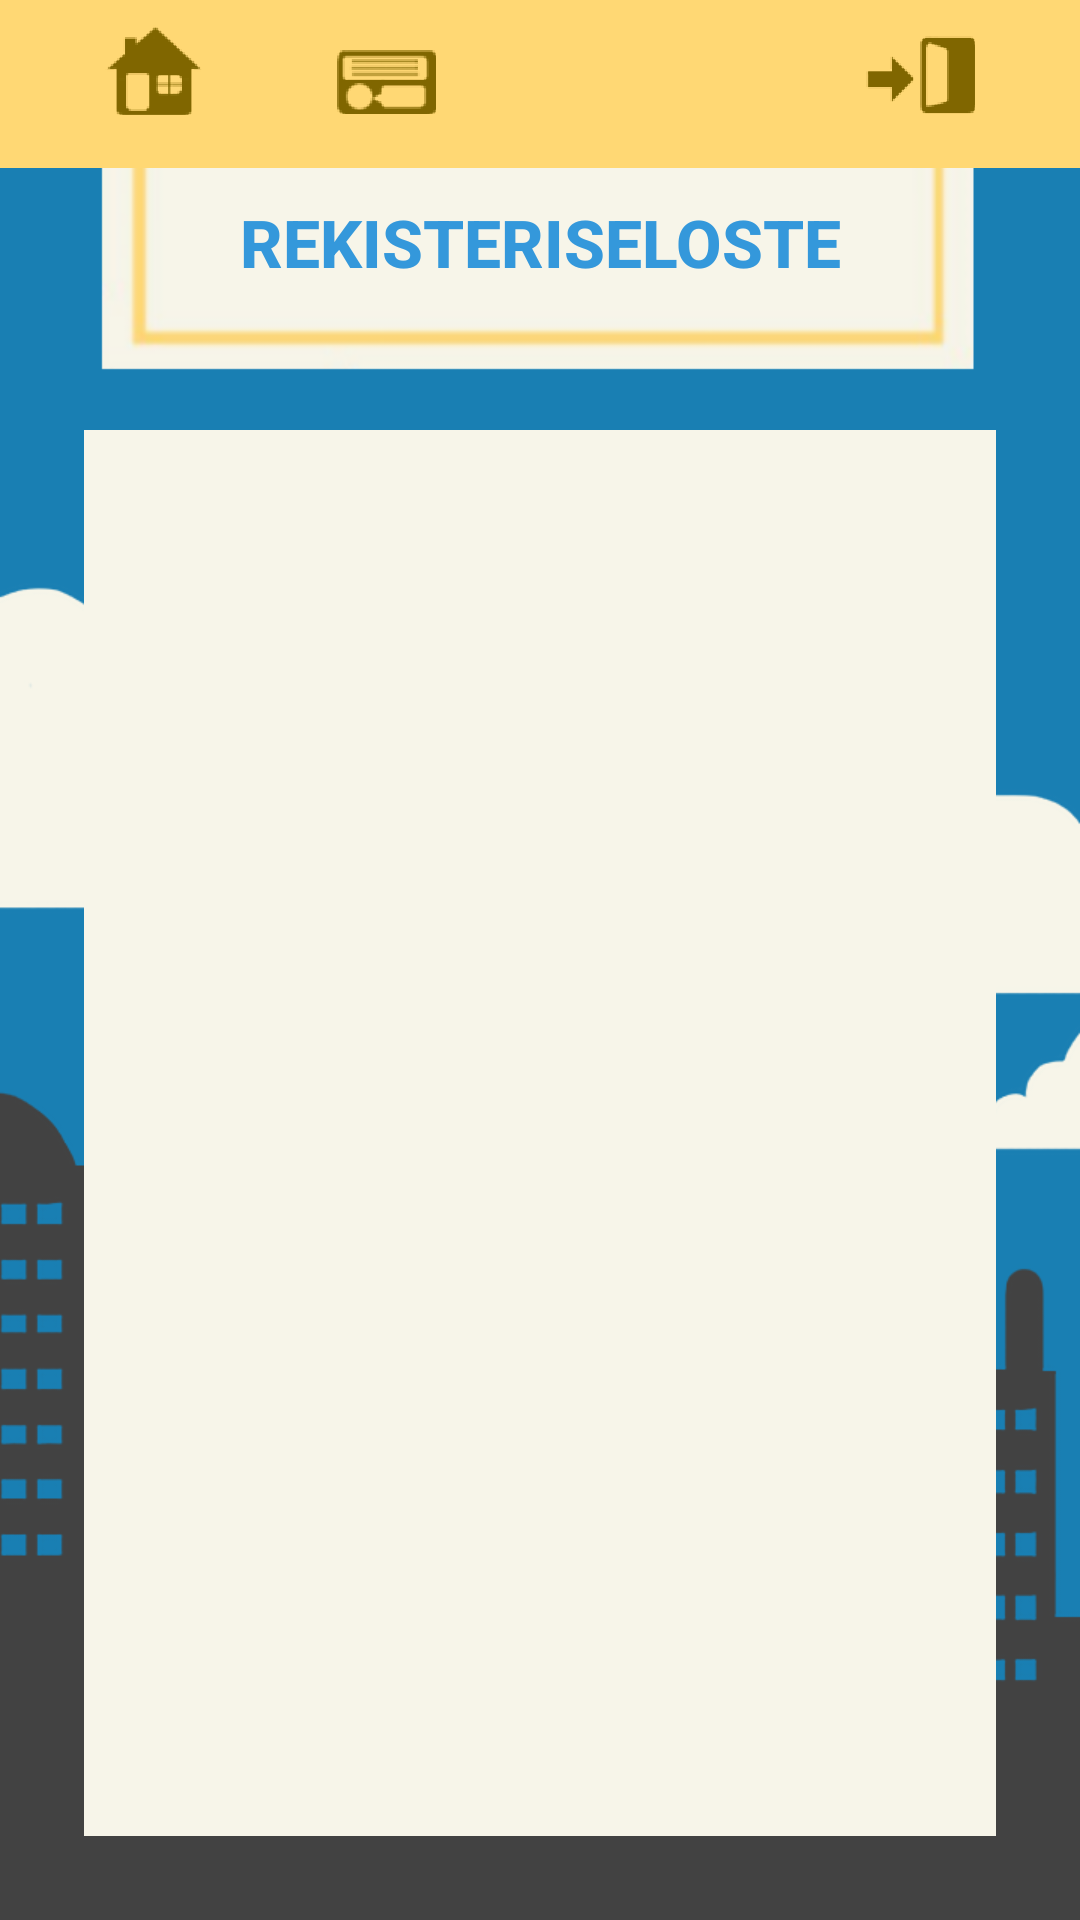

Icons on this 1080 x 1920 Android screen, each with the point to tap as [x,y]:
feedbackicon: [386,82]
homeicon: [154,71]
